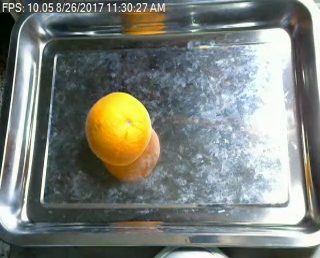Orange: (84, 90, 152, 165)
